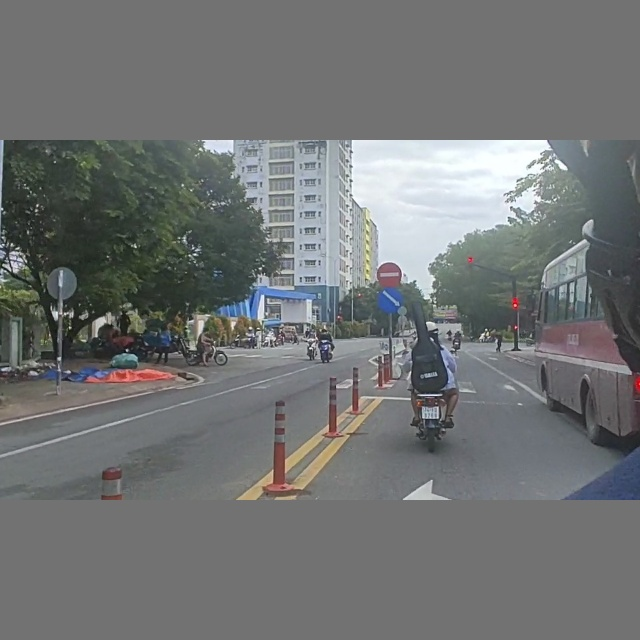P.102: (377, 263, 405, 289)
R.302a: (377, 287, 407, 315)
